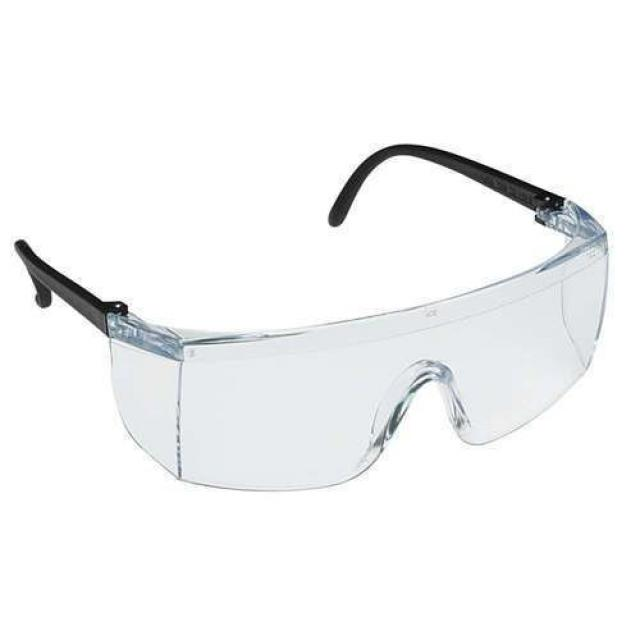Protective Glasses: (3, 93, 640, 560)
